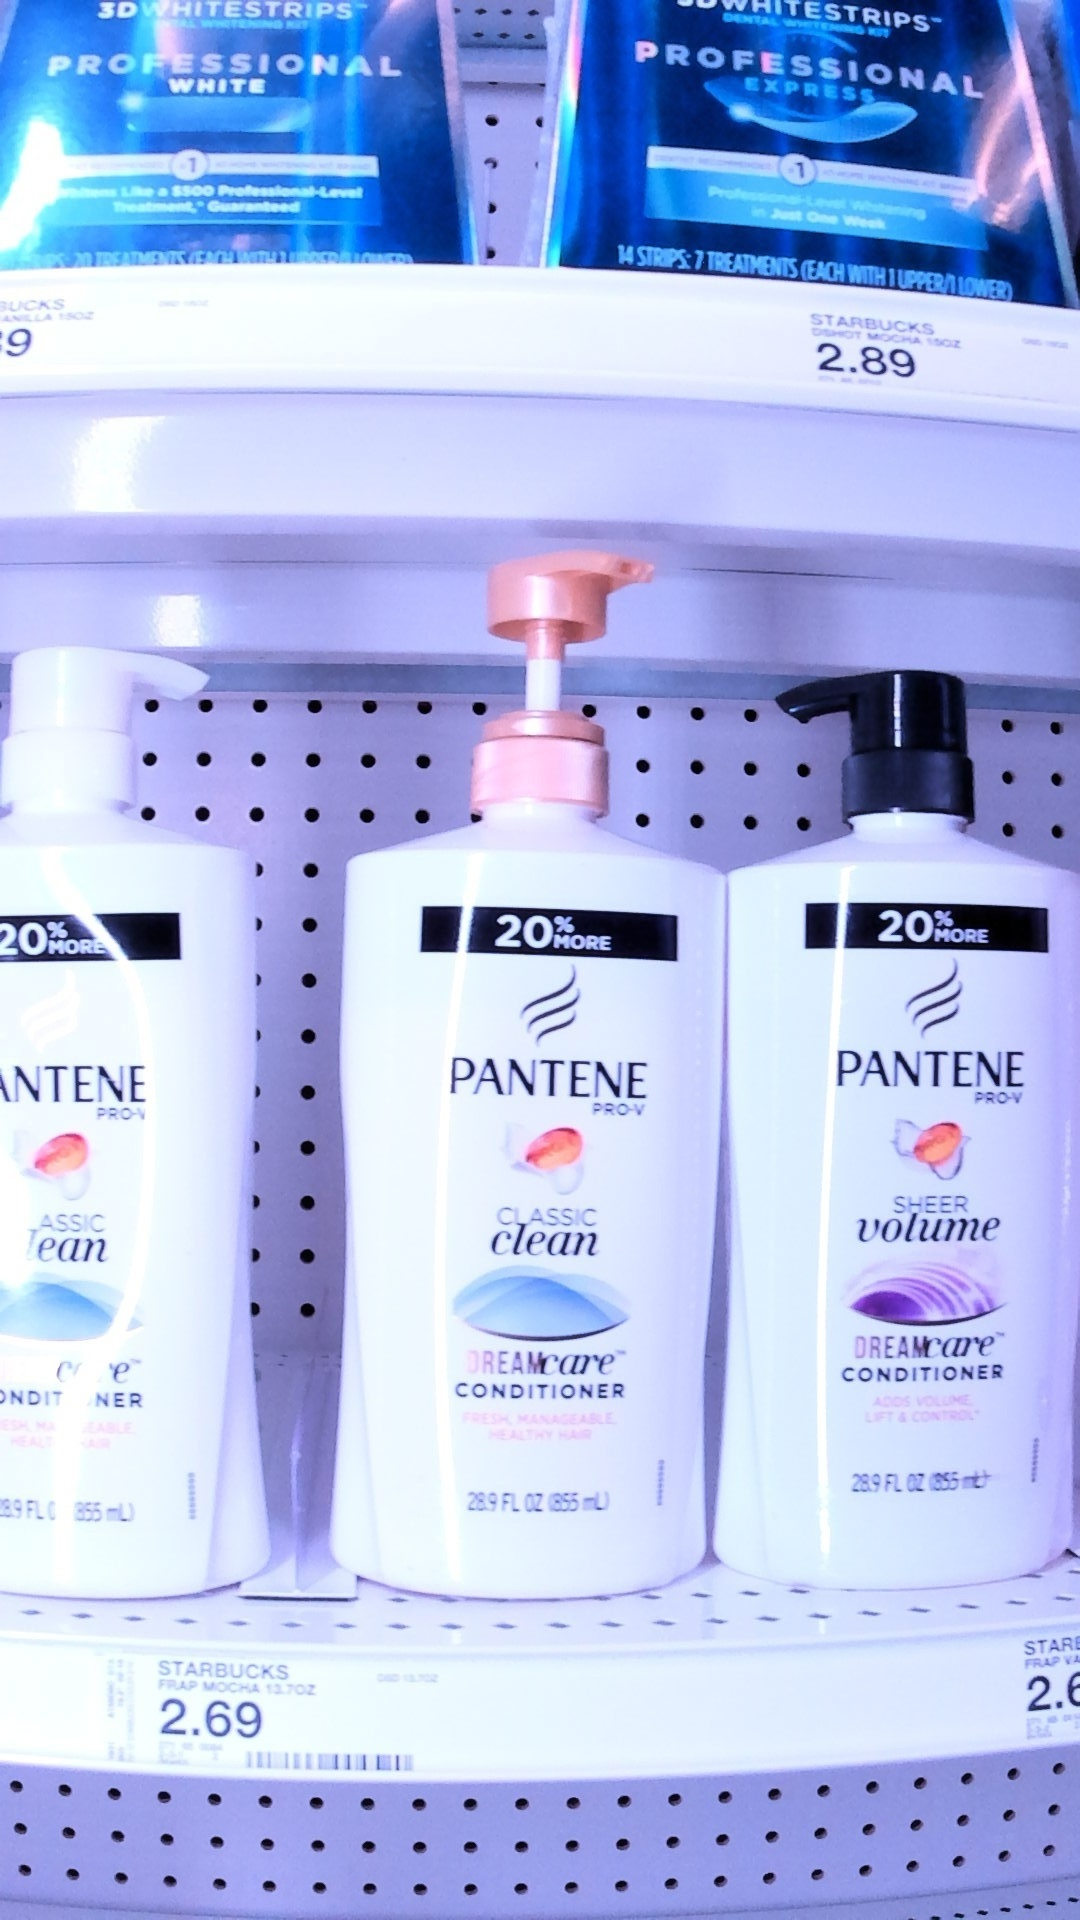ptag: (117, 1651, 435, 1782), (1, 269, 240, 396), (785, 289, 989, 415)
